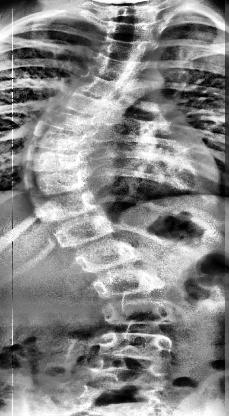Vertebrae: (98, 328, 174, 368), (72, 236, 146, 276), (101, 293, 179, 329), (53, 208, 115, 252), (92, 264, 164, 300), (32, 187, 100, 225), (56, 88, 126, 120), (22, 166, 88, 198), (19, 147, 87, 175), (27, 122, 88, 152), (86, 52, 140, 84), (78, 72, 132, 102), (38, 108, 100, 134), (99, 37, 150, 63), (103, 19, 161, 41)
